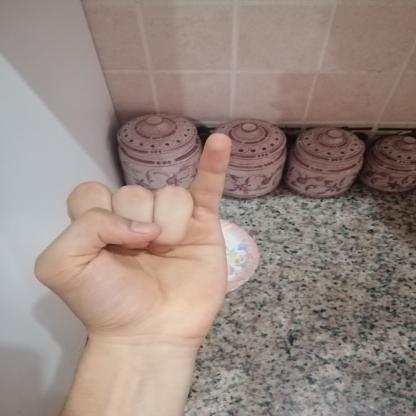MEEM: (14, 121, 249, 350)
